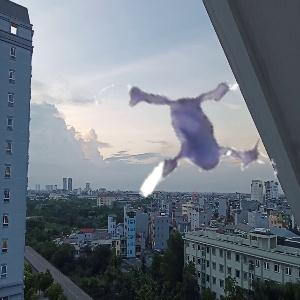drone: (56, 39, 285, 268)
